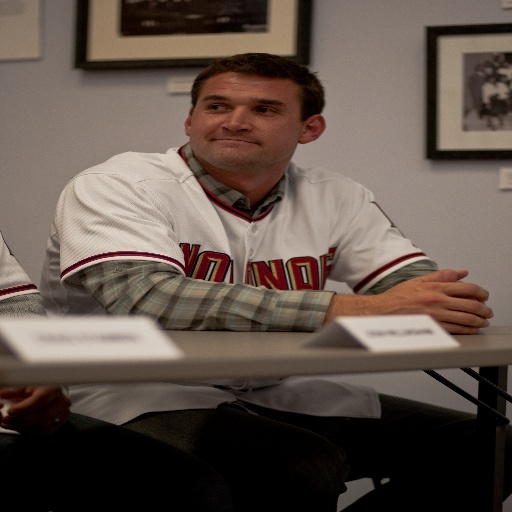hand: (381, 265, 496, 336), (0, 384, 73, 433)
